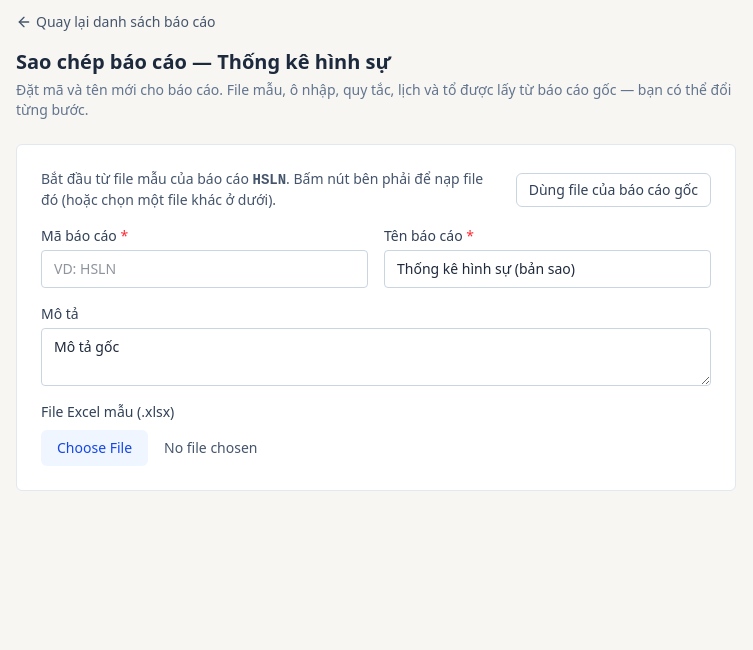
ReportCopyPage / wizard in copy mode › loads the source report's template file in one click, with its sheets pre-selected
The width and height of the screenshot is (753, 650).
Click the button with test id "btn-use-current-file": coordinates (613, 190) [516,172,711,206]
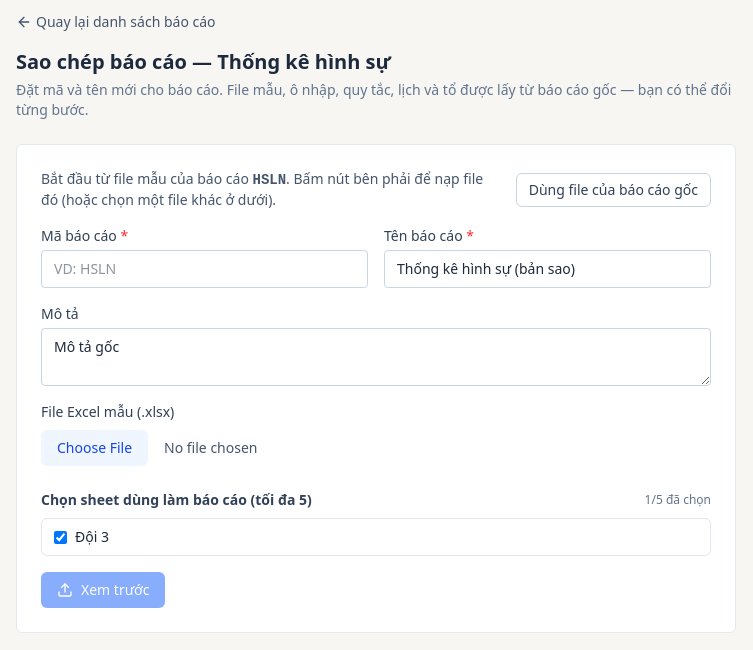
Expected: the checkbox with test id "sheet-checkbox-Đội 3" is checked, [54,530,67,544]
